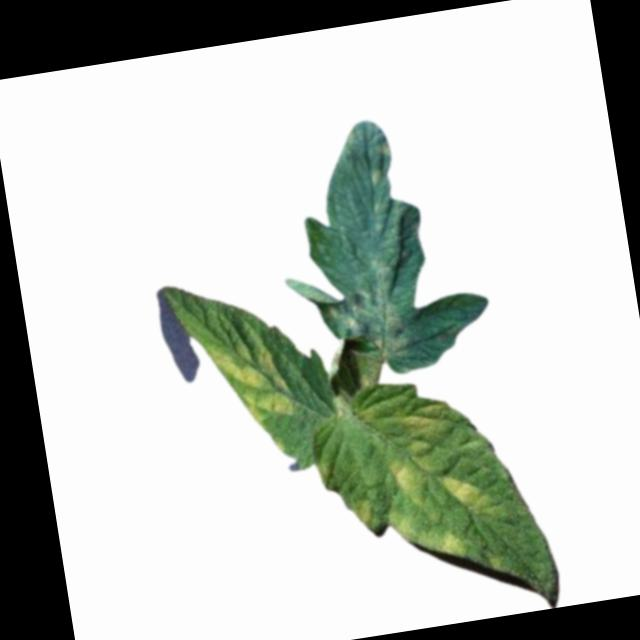Leaf_Mold: (324, 256, 419, 368), (208, 333, 302, 429), (400, 397, 456, 454), (441, 467, 501, 519), (387, 458, 423, 503), (346, 493, 383, 530), (438, 523, 472, 561)
